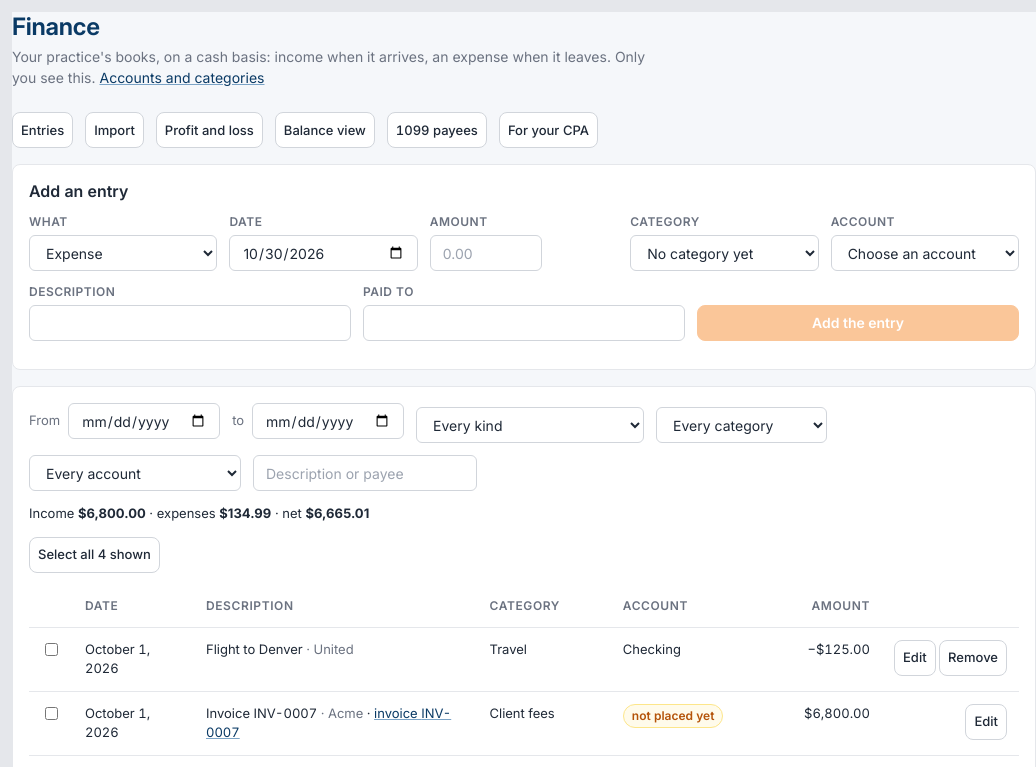
the entries › keeps a refused entry in the form, with the reason
Type "10" into the field named "Amount of the new entry" at (486, 253), box [430,235,542,271]
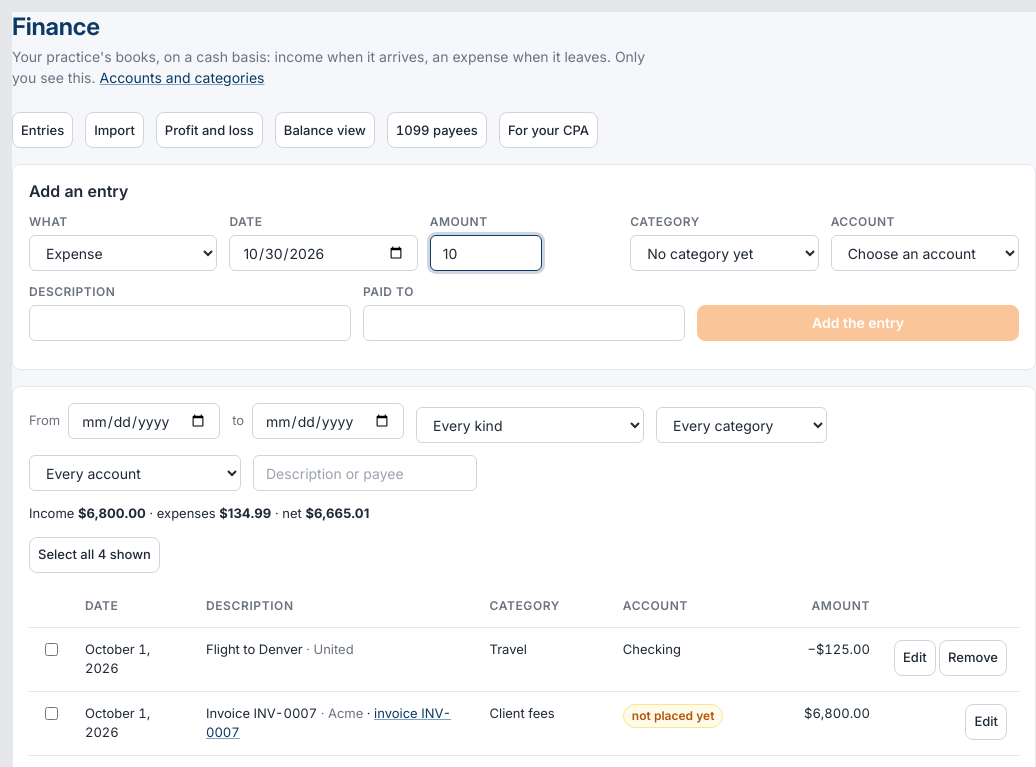
Select "Checking" in the dropdown named "Account of the new entry" at (925, 253), box [831,235,1019,271]
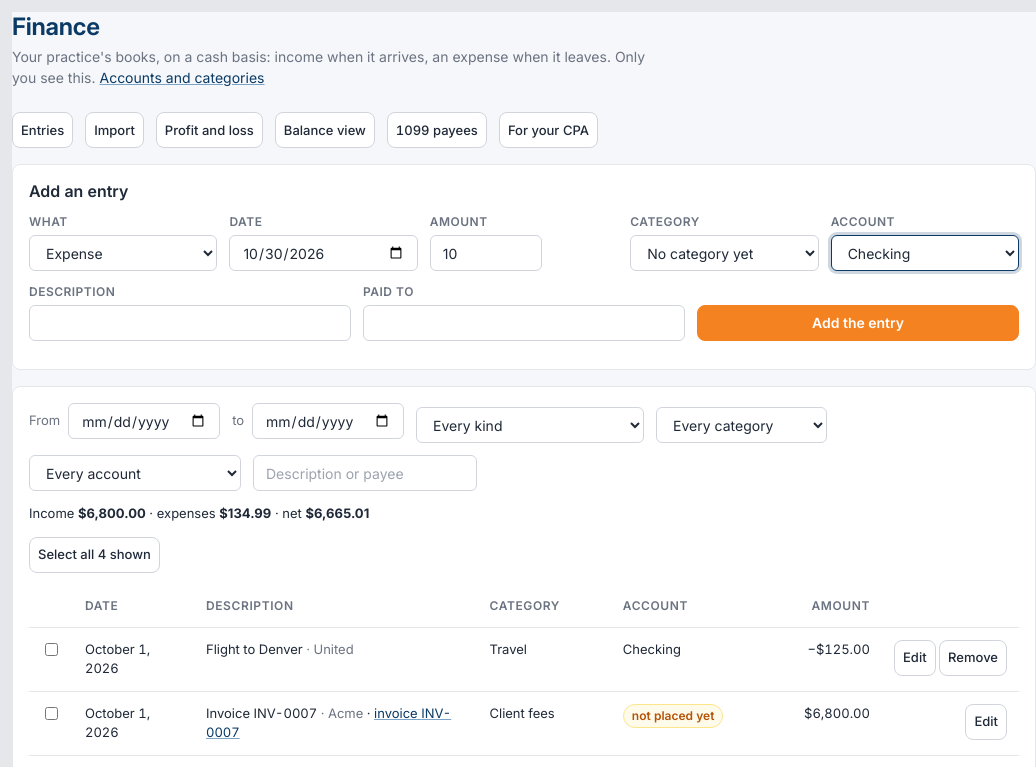
Click the button "Add the entry" at (858, 323), box [697,305,1019,341]
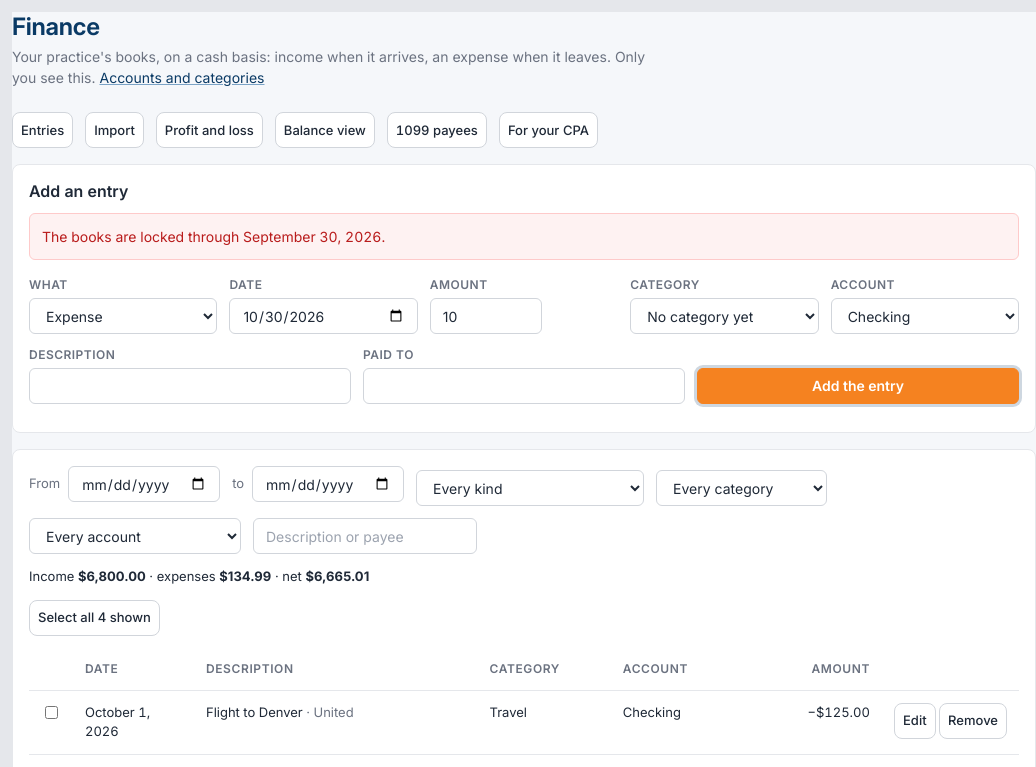
Expected: the text "The books are locked through September 30, 2026." is shown, [42,228,385,245]
